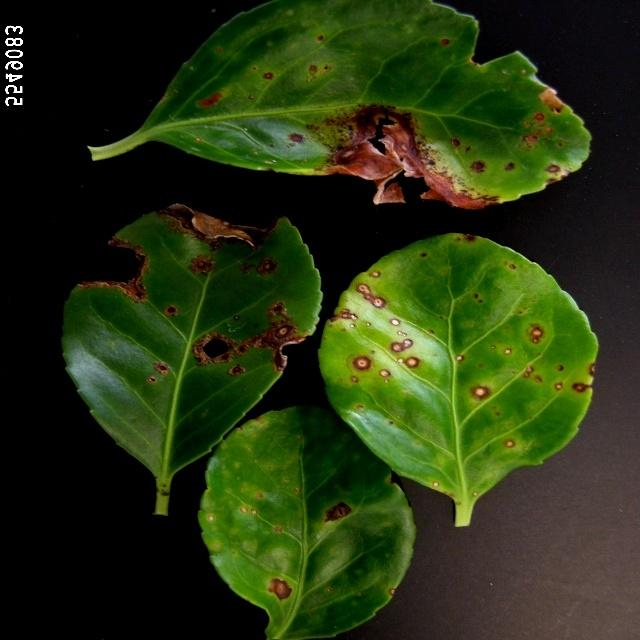leaf_spot: (311, 228, 615, 550), (46, 200, 328, 506), (201, 387, 428, 640)
